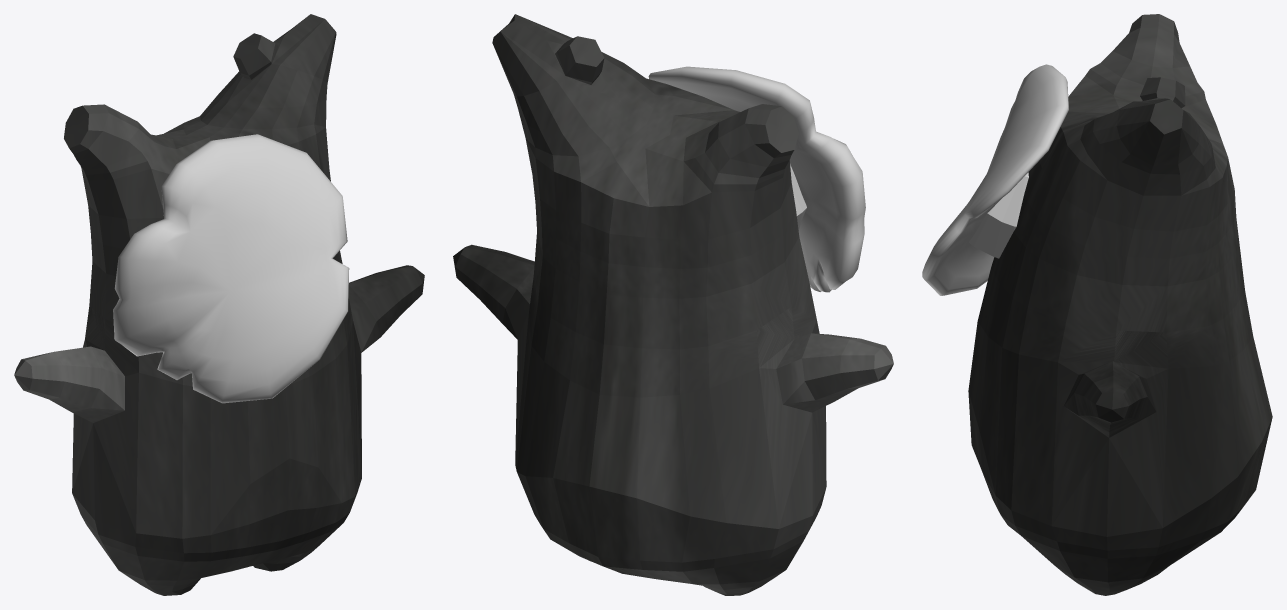
File: frame_0032.obj
3 renders of one model, left to right at view 1: azimuth 30°, elevation 25°; view 2: azimuth 150°, elevation 25°; view 3: azimuth 270°, elevation 25°, orthographic. The views are drawn at different scales.
Parts seen in each view (by area): view 1: korok, leaf; view 2: korok, leaf; view 3: korok, leaf, nose.
Part boxes in pixels (x1,y1,x2,y2): korok: [14, 14, 424, 595]; leaf: [113, 134, 349, 403]; korok: [453, 14, 893, 595]; leaf: [648, 66, 865, 292]; korok: [968, 14, 1272, 595]; leaf: [922, 64, 1068, 295]; nose: [969, 172, 1028, 258].
Size of the model in its own units: 1.86 by 2.23 by 1.34.
